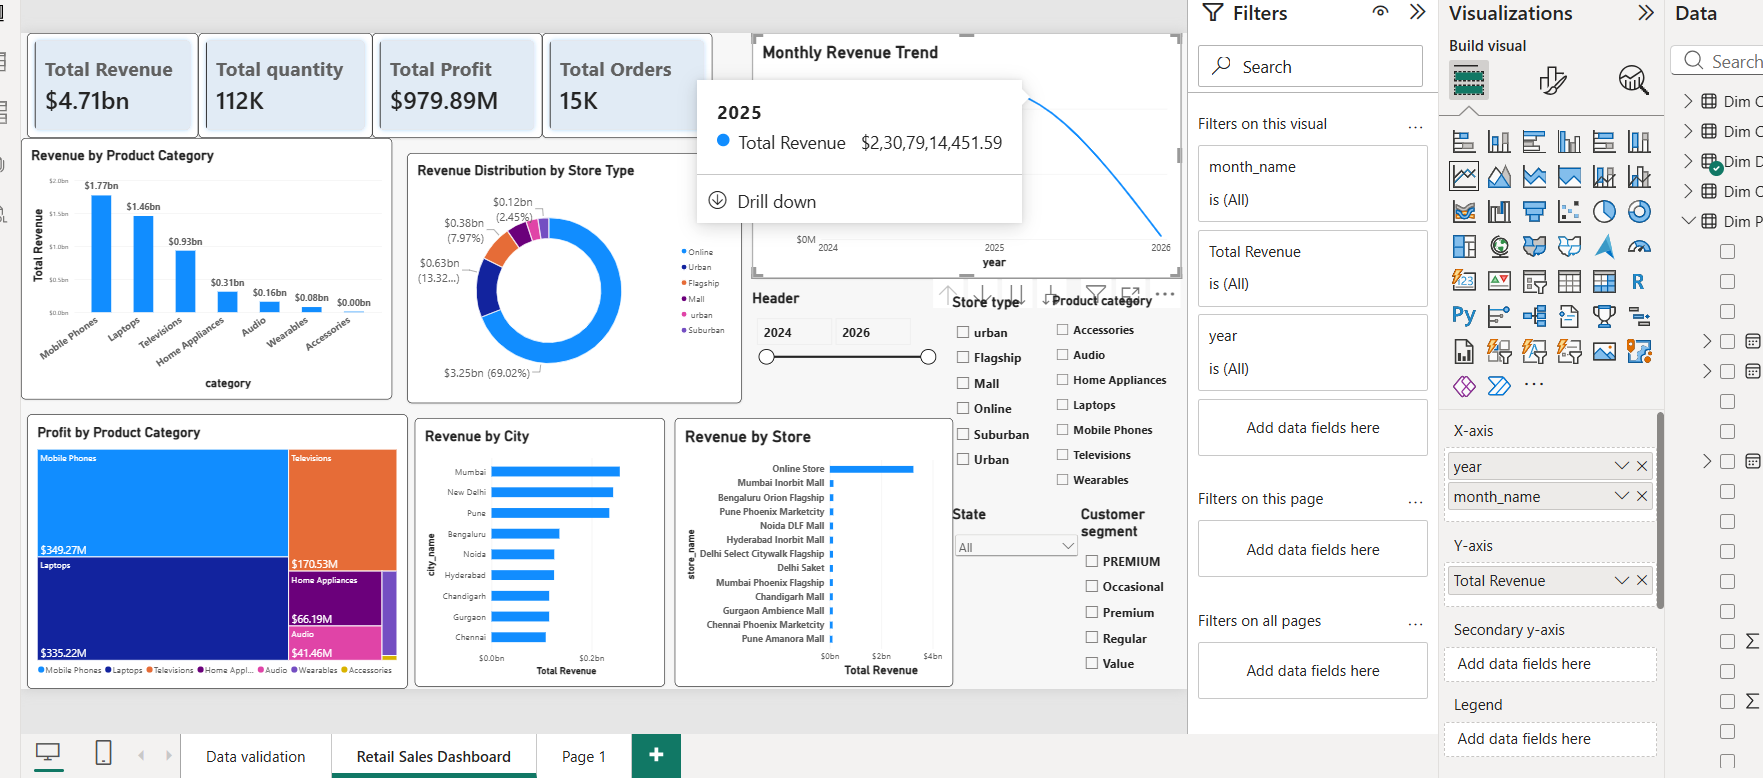

This screenshot's page, from the dashboard's own definition file:
{"tool":"powerbi","page":{"name":"Retail Sales Dashboard","canvas":[1920,1080],"ordinal":1},"visuals":[{"type":"cardVisual","fields":{"Data":["Fact Sales.Total Revenue"]},"box":[10.3,0,282,172.9],"z":0},{"type":"cardVisual","fields":{"Data":["Fact Sales.Total Profit"]},"box":[578.4,0,279.9,172.9],"z":1000},{"type":"cardVisual","fields":{"Data":["Fact Sales.Total Orders"]},"box":[858.3,0,279.9,172.9],"z":2000},{"type":"cardVisual","fields":{"Data":["Fact Sales.Total quantity"]},"box":[292.3,0,286.1,172.9],"z":3000},{"type":"clusteredColumnChart","title":"Revenue by Product Category","fields":{"Category":["Dim Product.category","Dim Product.subcategory"],"Y":["Fact Sales.Total Revenue"]},"box":[0,172.9,611.3,430.2],"z":4000},{"type":"treemap","title":"Profit by Product Category","fields":{"Group":["Dim Product.category"],"Values":["Fact Sales.Total Profit"]},"box":[10.9,628,510.3,452.4],"z":5000},{"type":"clusteredBarChart","title":"Revenue by Store","fields":{"Category":["Dim Store.store_name"],"Y":["Fact Sales.Total Revenue"]},"box":[803.5,617.1,334.8,443.4],"z":6000},{"type":"lineChart","title":" Monthly Revenue Trend","fields":{"Category":["Dim Date.year","Dim Date.month_name"],"Y":["Fact Sales.Total Revenue"]},"box":[1203.4,0,705.8,347.5],"z":7000},{"type":"donutChart","title":"Revenue Distribution by Store Type","fields":{"Category":["Dim Store.store_type"],"Y":["Fact Sales.Total Revenue"]},"box":[636,198,550,412],"z":8000},{"type":"clusteredBarChart","title":"Revenue by City","fields":{"Category":["Dim City.city_name"],"Y":["Fact Sales.Total Revenue"]},"box":[521.2,618.9,282.3,443.4],"z":9000},{"type":"slicer","title":"Product category","fields":{"Values":["Dim Product.category"]},"box":[1695.7,347.5,212,111.1],"z":10000},{"type":"slicer","title":"Store type","fields":{"Values":["Dim Store.store_type"]},"box":[1532.8,347.5,148.2,111.1],"z":11000},{"type":"slicer","title":"Customer segment","fields":{"Values":["Dim Customer.customer_segment"]},"box":[1693.8,459.7,212,94.7],"z":12000},{"type":"slicer","title":"State","fields":{"Values":["Dim State.state_name"]},"box":[1532.8,459.7,148.2,94.7],"z":13000},{"type":"slicer","title":"Header","fields":{"Values":["Dim Date.year"]},"box":[1203.4,347.5,306,206],"z":14000},{"type":"tableEx","title":"Store Performance","fields":{"Values":["Dim Store.store_name","Fact Sales.Total Profit","Fact Sales.Total Revenue","SparklineData(Fact Sales.Total Revenue_[Dim Date.full_date])"]},"box":[1138.3,604.4,781.8,468.7],"z":14001}]}

Visuals, with their boxes on the page's 1920x1080 design canvas (x1, y1, x2, y2). These are canvas units, not pixel positions in the 1763x778 screenshot, which may show the page scaled, cropped or inside an application window:
cardVisual - Fact Sales.Total Revenue: <box>10,0,292,173</box>
cardVisual - Fact Sales.Total Profit: <box>578,0,858,173</box>
cardVisual - Fact Sales.Total Orders: <box>858,0,1138,173</box>
cardVisual - Fact Sales.Total quantity: <box>292,0,578,173</box>
"Revenue by Product Category" clusteredColumnChart: <box>0,173,611,603</box>
"Profit by Product Category" treemap: <box>11,628,521,1080</box>
"Revenue by Store" clusteredBarChart: <box>804,617,1138,1060</box>
" Monthly Revenue Trend" lineChart: <box>1203,0,1909,348</box>
"Revenue Distribution by Store Type" donutChart: <box>636,198,1186,610</box>
"Revenue by City" clusteredBarChart: <box>521,619,804,1062</box>
"Product category" slicer: <box>1696,348,1908,459</box>
"Store type" slicer: <box>1533,348,1681,459</box>
"Customer segment" slicer: <box>1694,460,1906,554</box>
"State" slicer: <box>1533,460,1681,554</box>
"Header" slicer: <box>1203,348,1509,554</box>
"Store Performance" tableEx: <box>1138,604,1920,1073</box>
